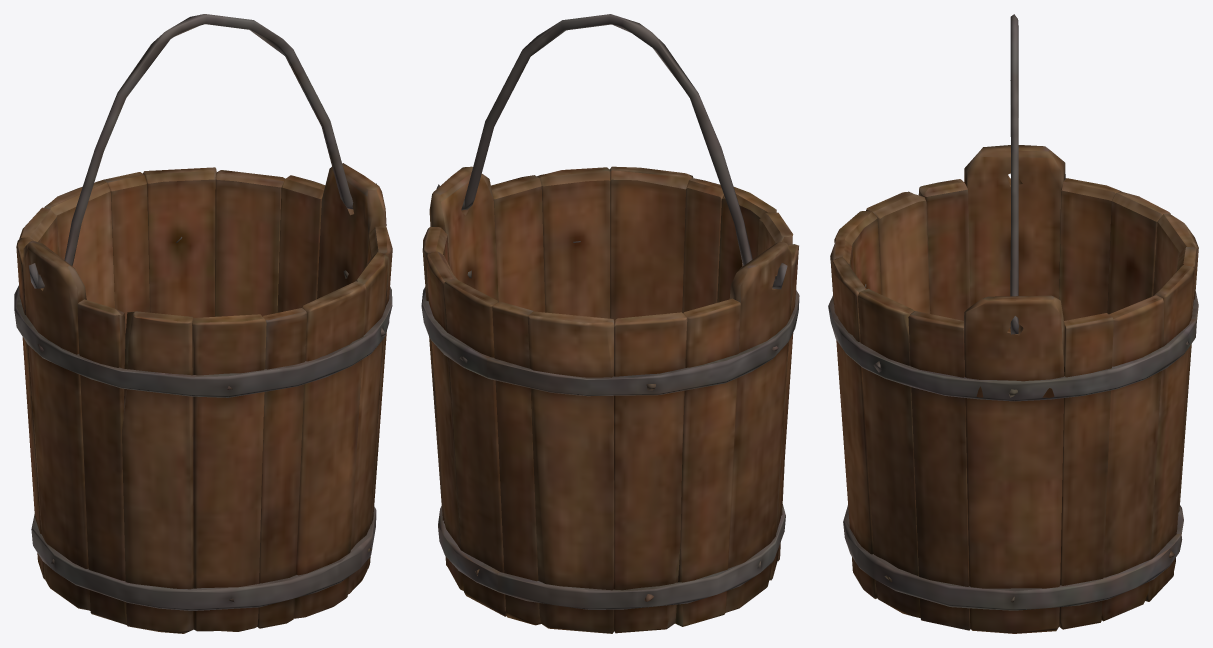
The model's file is mop_bucket.glb.
3 views of the same model, side by side, from view 1: azimuth 30°, elevation 25°; view 2: azimuth 150°, elevation 25°; view 3: azimuth 270°, elevation 25° (orthographic).
Bounding box in the file's own units: 0.3663 × 0.5493 × 0.3418.
1 material, 1 textured.
